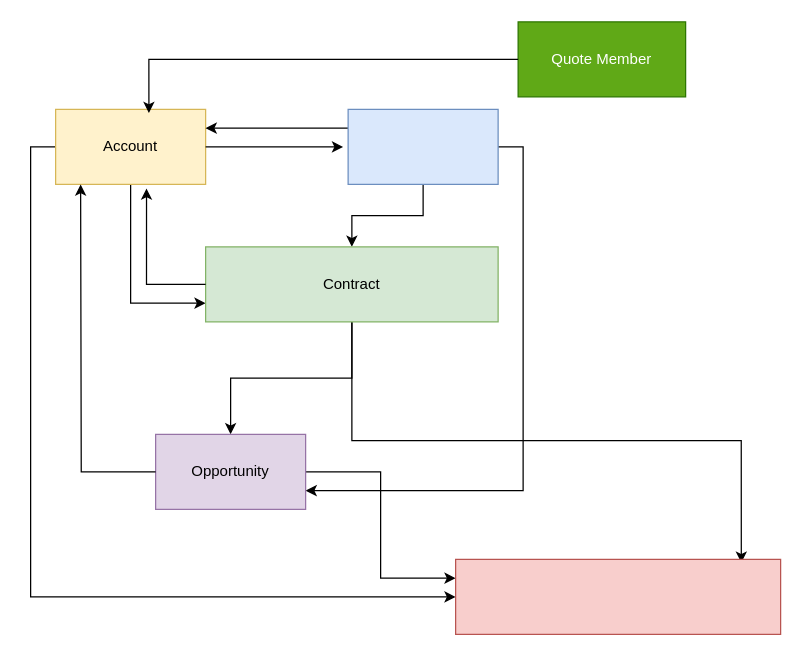
This 803x656 diagram has some shape labels left out. The shapes that lost their labels are listed below. From the top down, each one's box as (x1, y1, x2, y2) in pixels, then its label:
(347, 108, 498, 184): Contact
(454, 558, 781, 634): Asset
